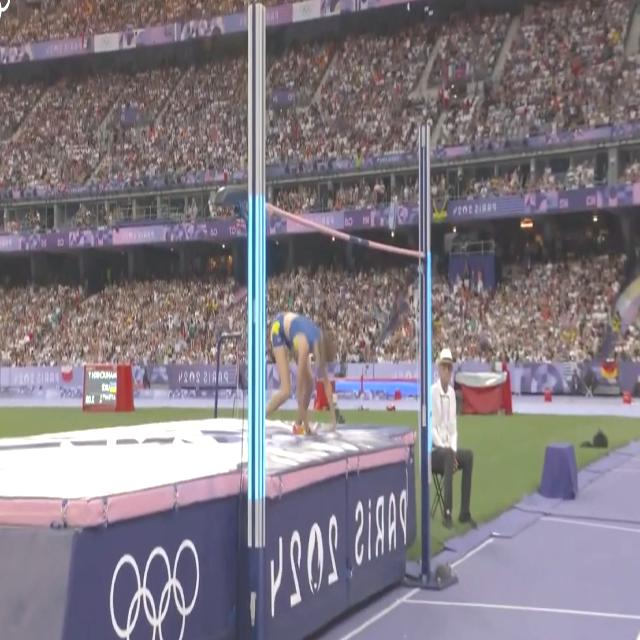land: (263, 310, 338, 436)
